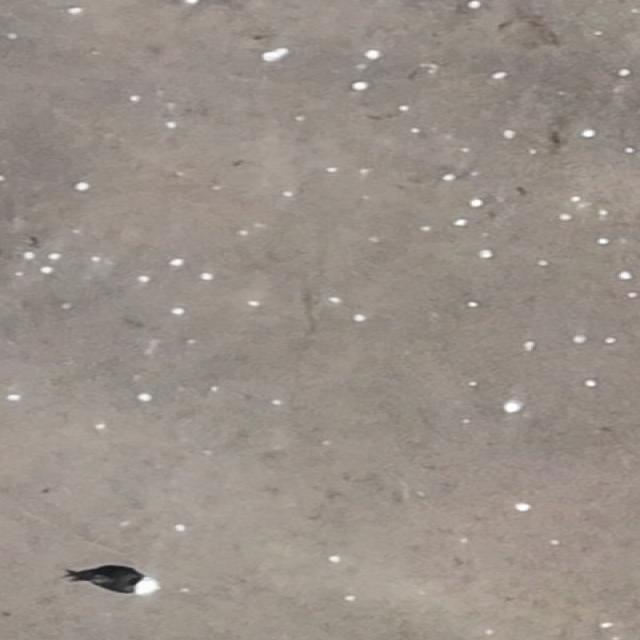umineko: (82, 569, 162, 595)
